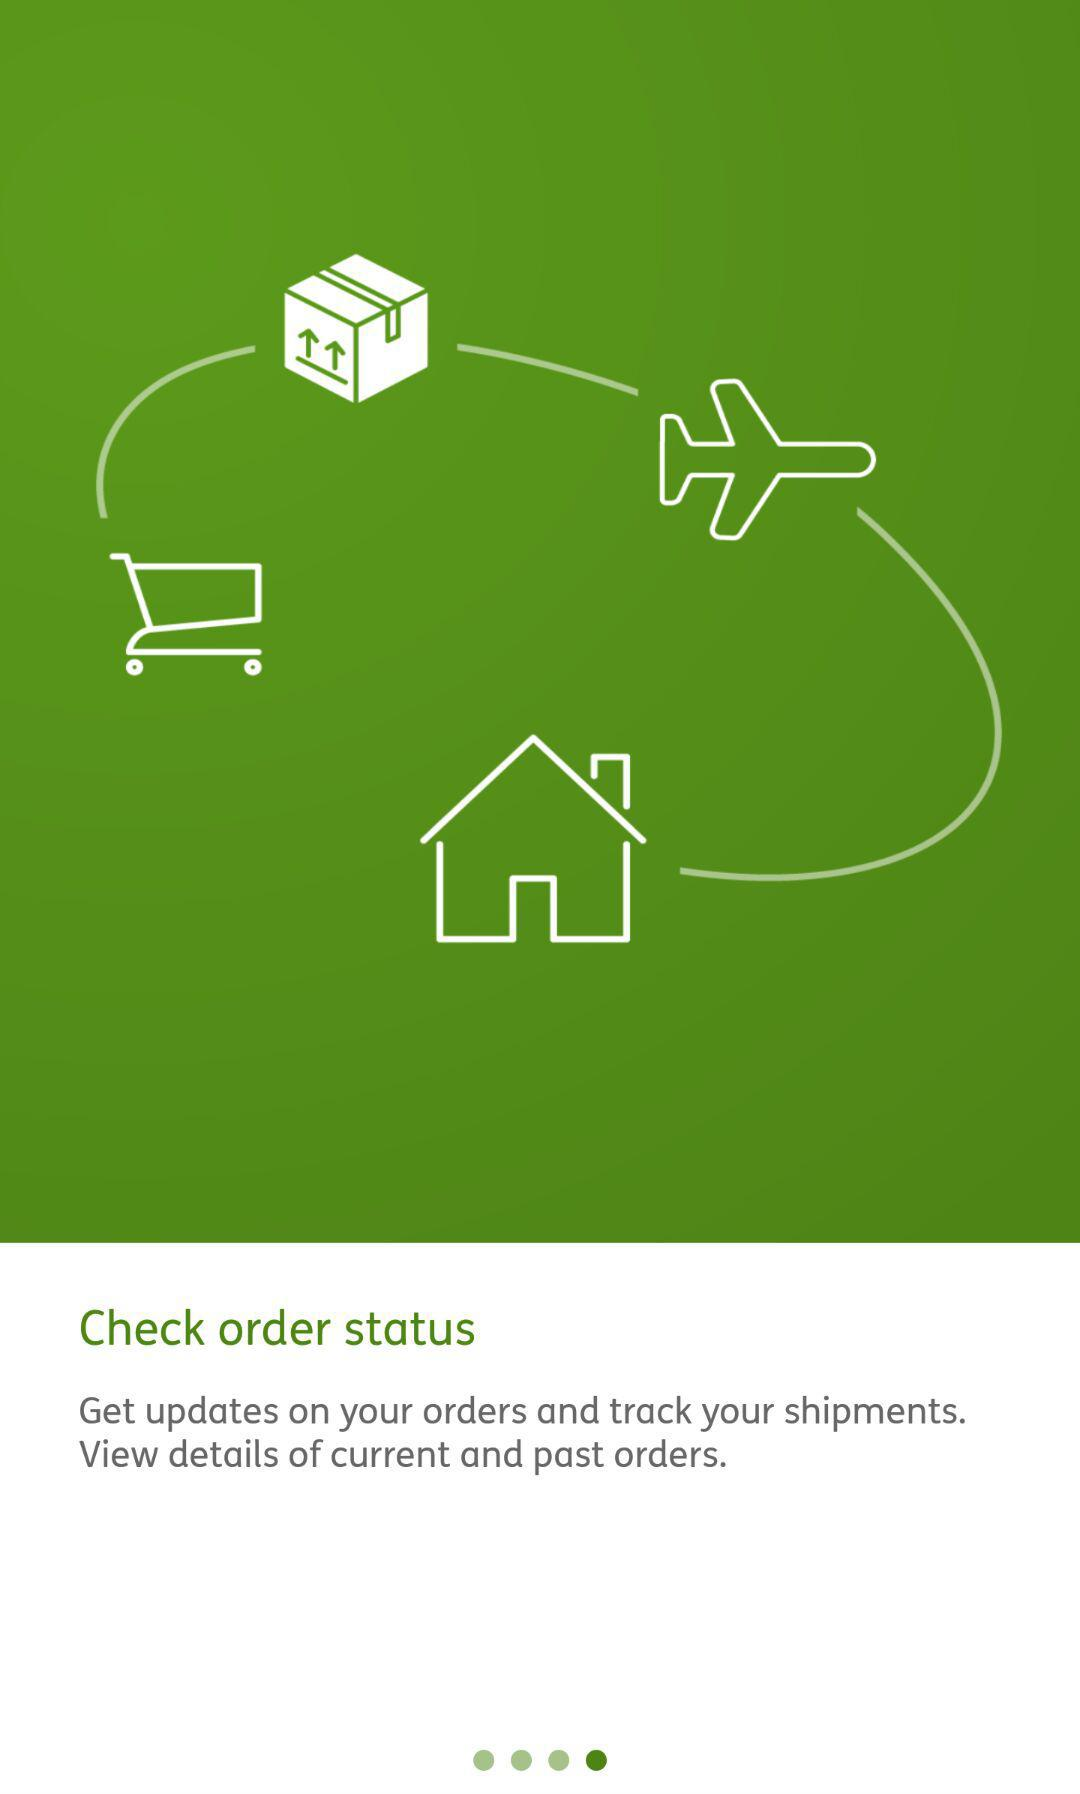Image: (95, 252, 1003, 946)
PageIndicator: (471, 1748, 609, 1773)
Text: (79, 1395, 967, 1477), (81, 1307, 477, 1349)
